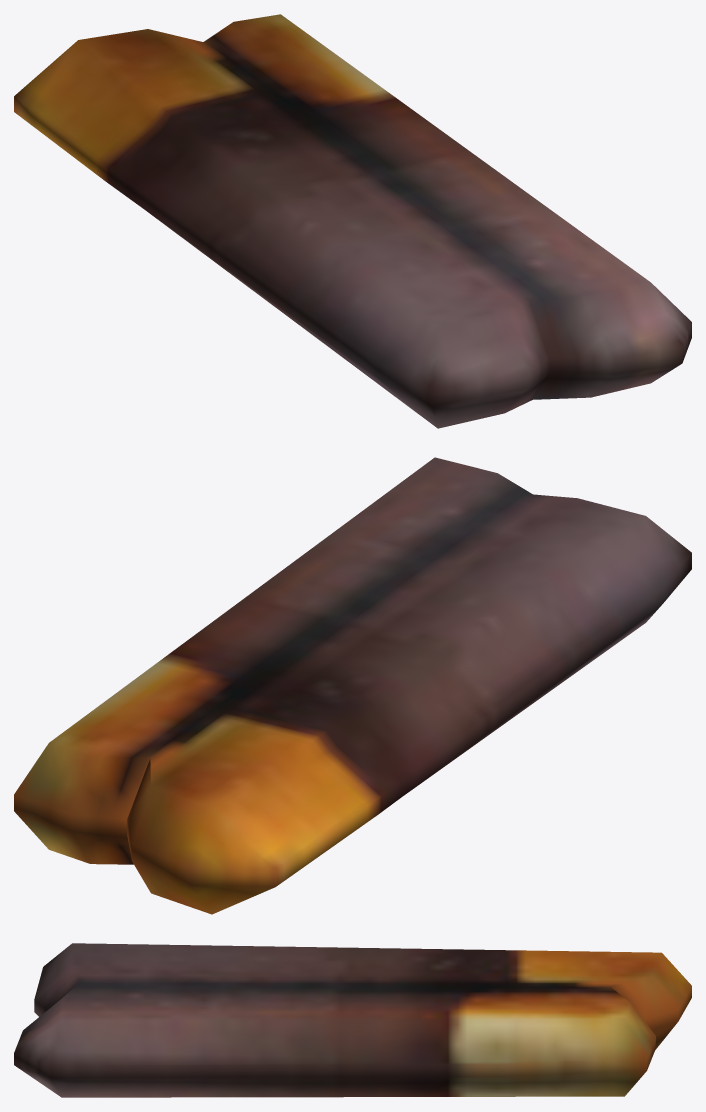
File: dagasi02a.fbx
3 renders of one model, top to bottom at view 1: azimuth 30°, elevation 25°; view 2: azimuth 150°, elevation 25°; view 3: azimuth 270°, elevation 25°, orthographic. The views are drawn at different scales.
Parts seen in each view (by area): view 1: dagasi02a; view 2: dagasi02a; view 3: dagasi02a.
Part boxes in pixels (x1,y1,x2,y2): dagasi02a: (14, 14, 691, 428); dagasi02a: (14, 457, 691, 914); dagasi02a: (14, 943, 691, 1097).
Size of the model in its own units: 7.73 by 2.67 by 21.18.
